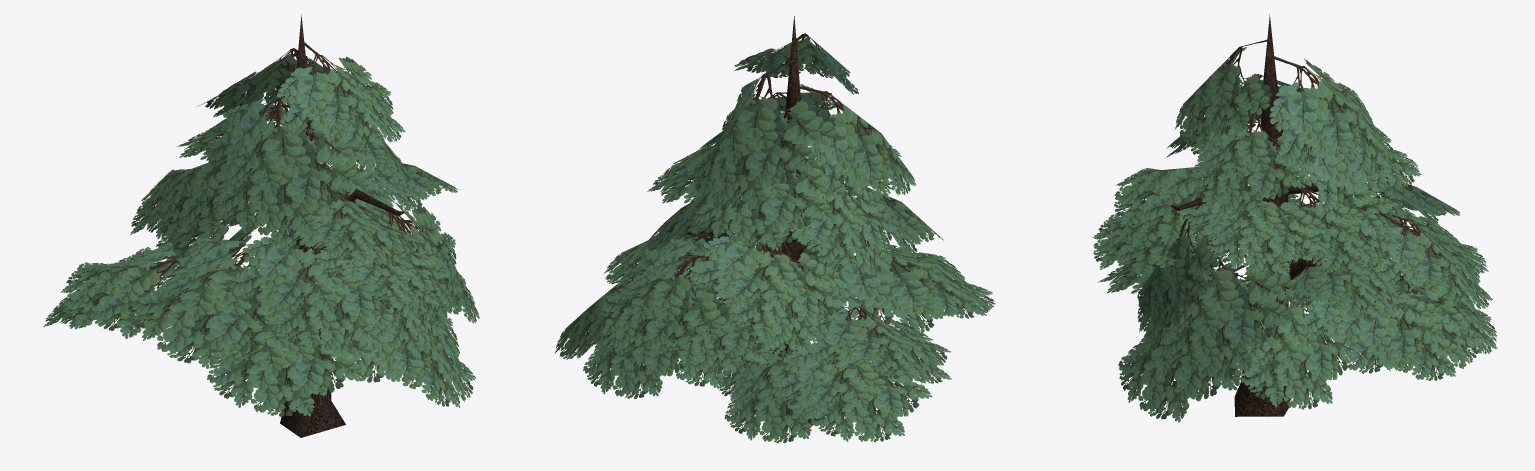
Rendered from Oak01.fbx.
3 renders of one model, left to right at view 1: azimuth 30°, elevation 25°; view 2: azimuth 150°, elevation 25°; view 3: azimuth 270°, elevation 25°, orthographic. The views are drawn at different scales.
Visible parts, largest first — view 1: Oak01; view 2: Oak01; view 3: Oak01.
Boxes of the visible parts, x1,y1,x2,y2 form: Oak01: (43,14,479,437); Oak01: (554,16,994,443); Oak01: (1093,14,1497,422).
Size of the model in its own units: 902 by 858 by 919.
